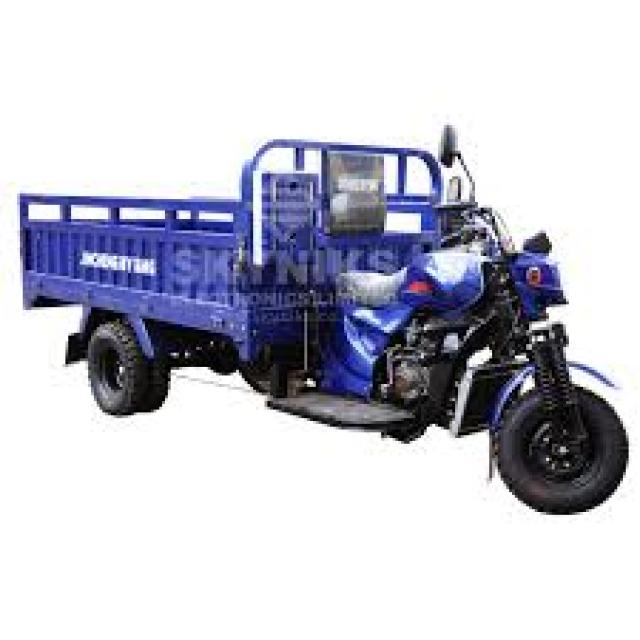tuktuk: (0, 53, 637, 599)
